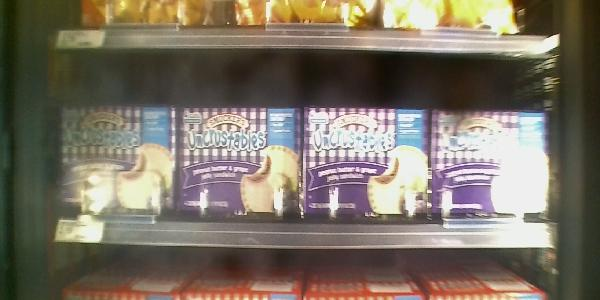icecream: (429, 103, 555, 228), (302, 103, 429, 227), (178, 104, 302, 226), (57, 103, 178, 219)
